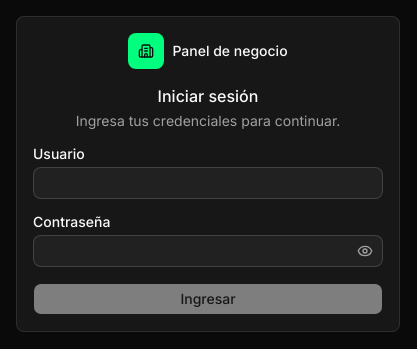
Test: LoginForm › does not enforce email format — the username field only requires a non-empty value
The image size is (417, 349).
Check: the button "Ingresar" is disabled, box [33, 283, 383, 315]
In the field labelled "Usuario": (208, 183) [33, 167, 383, 199], type "usuario@"
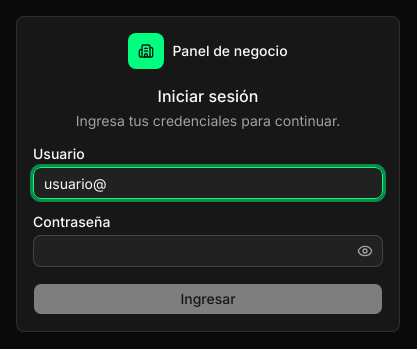
Press Tab
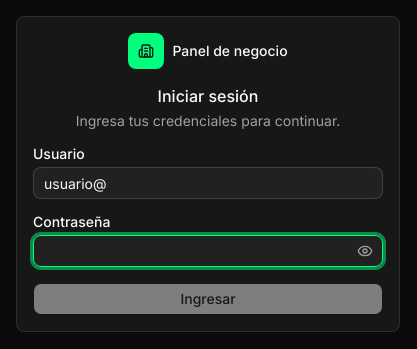
In the password field labelled "Contraseña": (208, 251) [33, 235, 383, 267], type "demo1234"
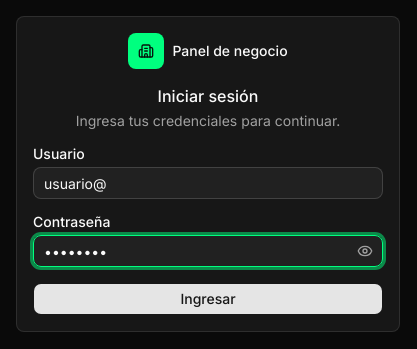
Check: the button "Ingresar" is enabled, box [33, 283, 383, 315]
